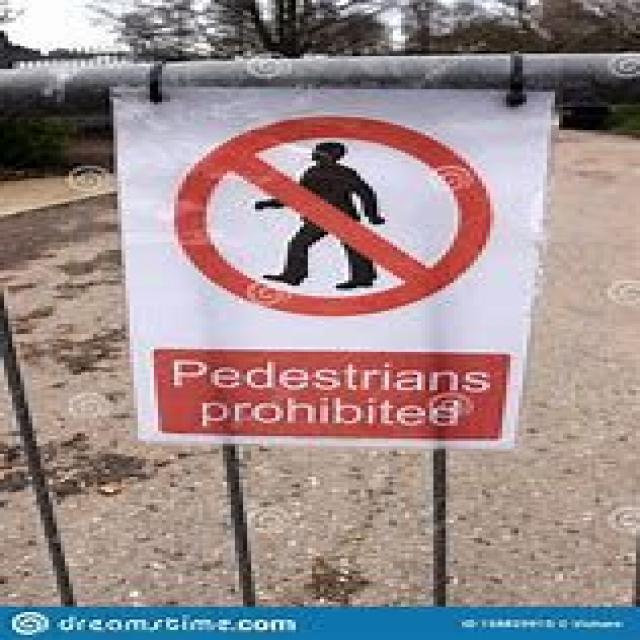PEDESTRIAN_PROHIBITED: (166, 110, 490, 314)
